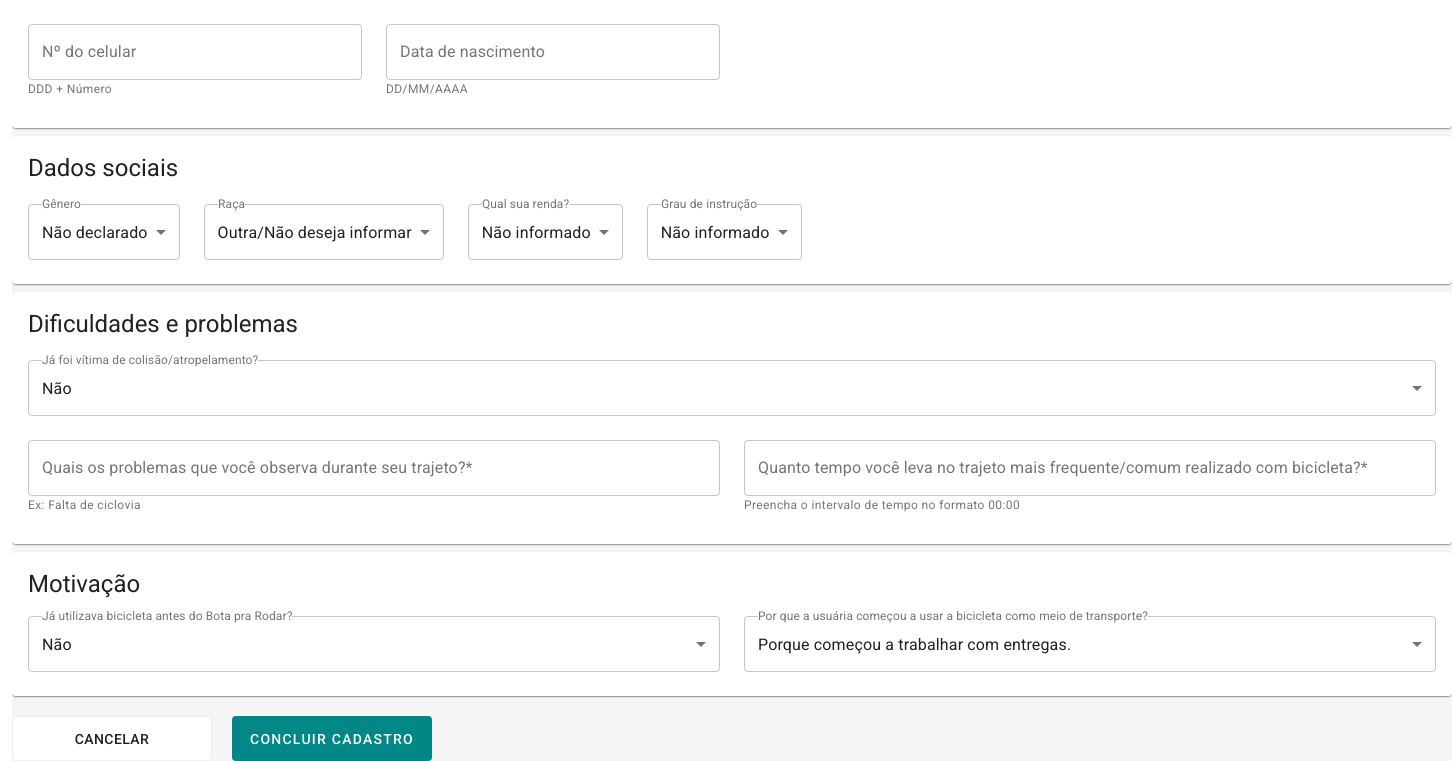
Scenario: PersonalInfoForm › should show error when submitting empty values
(page scrolled)
Click the button "CONCLUIR CADASTRO" at coordinates (332, 739), box [232,716,432,760]
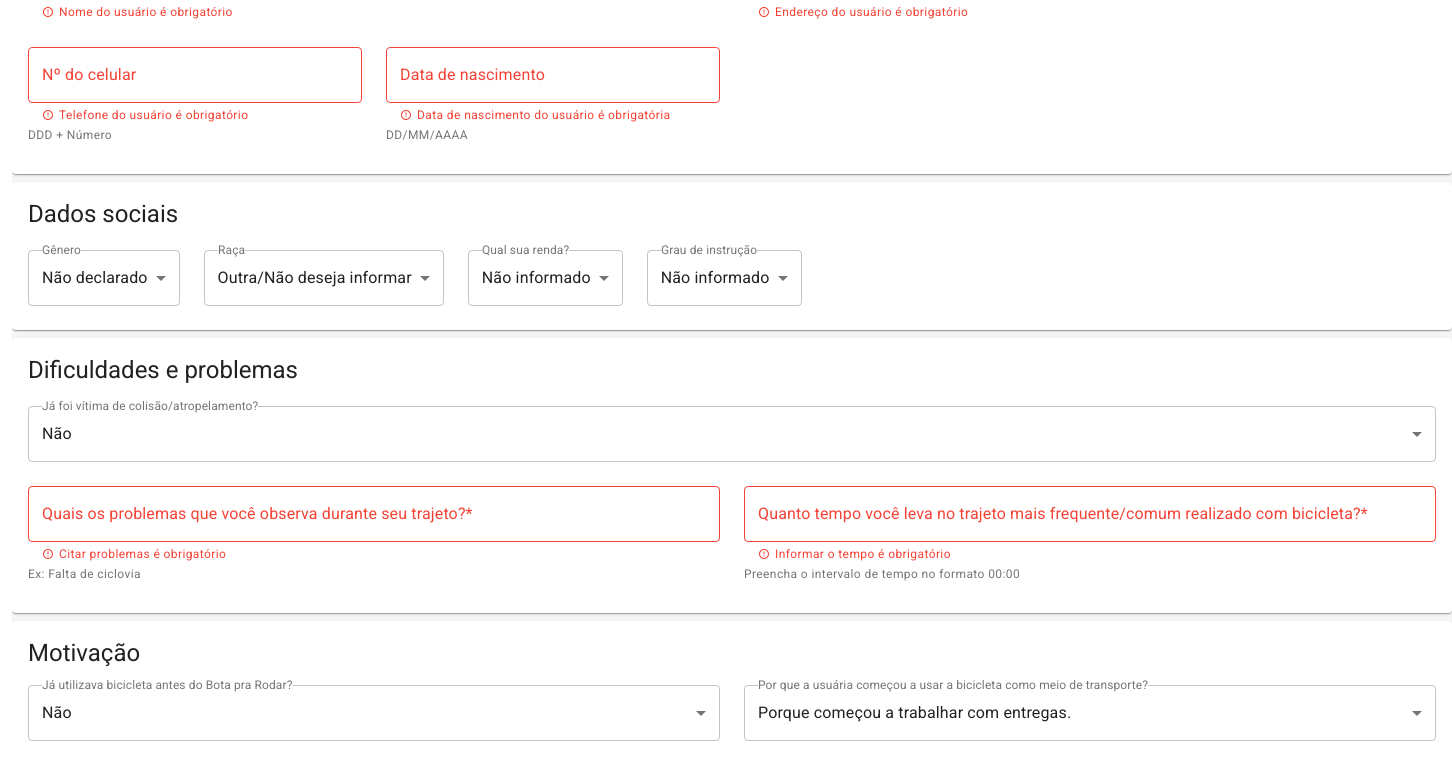
Expected: the text "Nome do usuário é obrigatório" is shown, [42,5,233,19]
Expected: the text "Endereço do usuário é obrigatório" is shown, [758,5,968,19]
Expected: the text "Telefone do usuário é obrigatório" is shown, [42,108,248,122]
